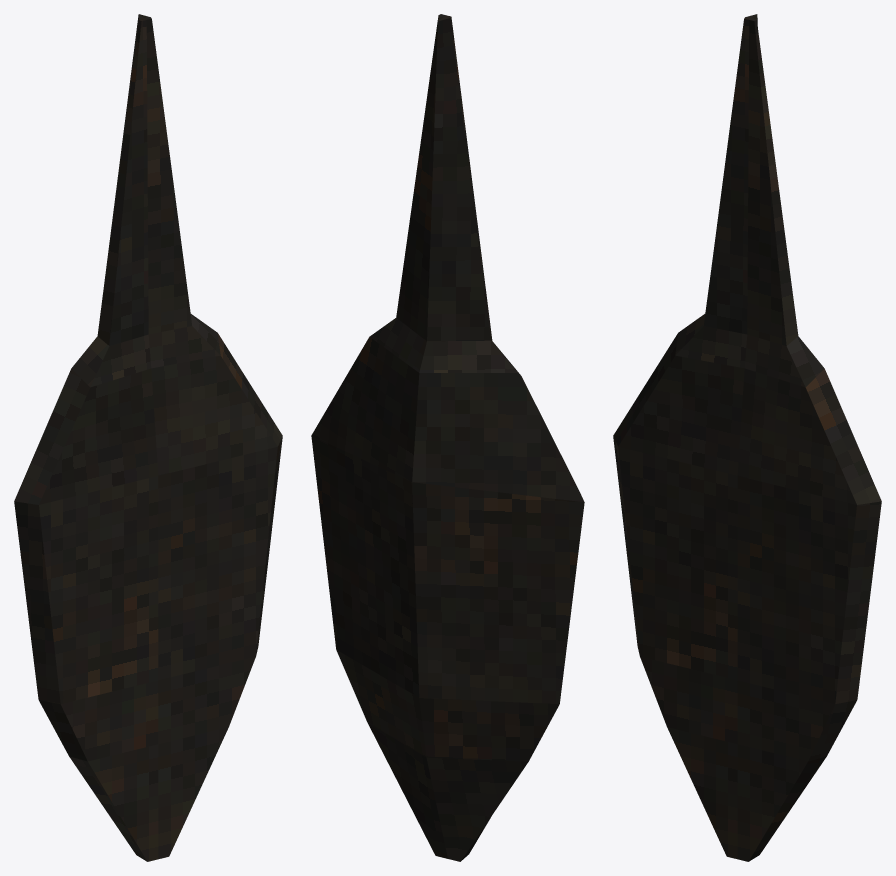
Rendered from decorational_spike_large.obj.
The picture shows the model from 3 angles, left to right: view 1: azimuth 30°, elevation 25°; view 2: azimuth 150°, elevation 25°; view 3: azimuth 330°, elevation 25°; orthographic projection.
Parts seen in each view (by area): view 1: cuboid; view 2: cuboid; view 3: cuboid.
Boxes of the visible parts, x1=… form: cuboid: x1=14, y1=14, x2=282, y2=861; cuboid: x1=311, y1=14, x2=584, y2=861; cuboid: x1=613, y1=14, x2=881, y2=861.
Bounding box in the file's own units: 1.38 × 4.06 × 0.4.
